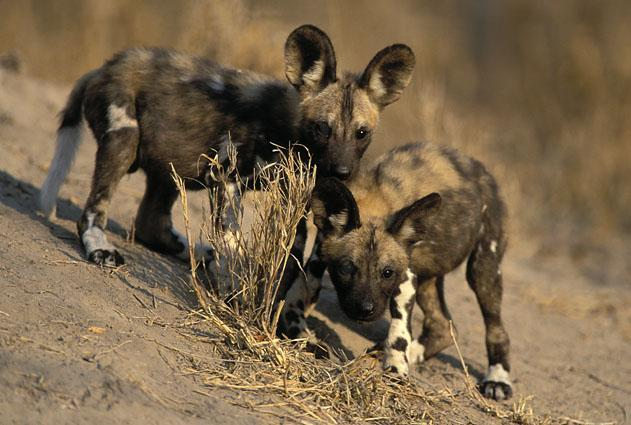African_hunting_dog: (42, 22, 433, 262), (303, 124, 512, 404)
